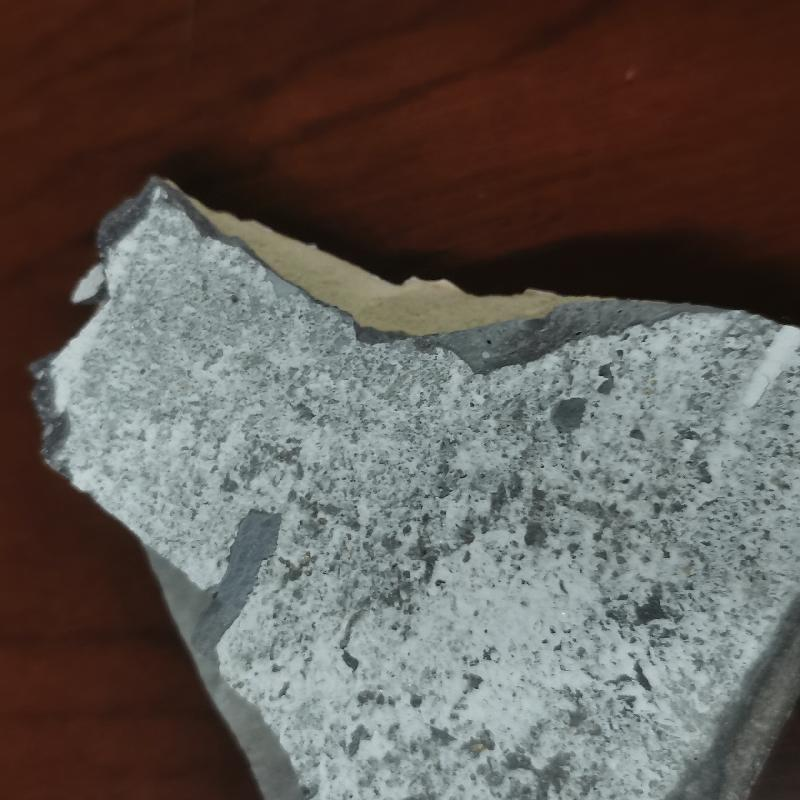tile: (27, 173, 799, 800)
